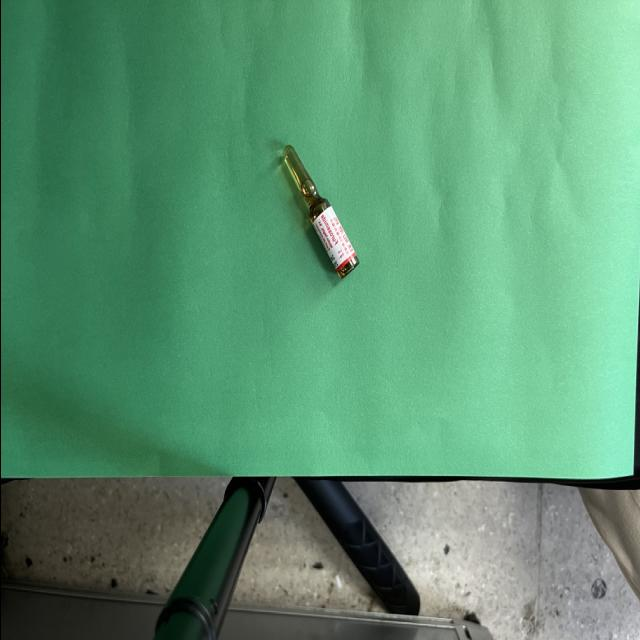Ampoules: (282, 144, 358, 279)
